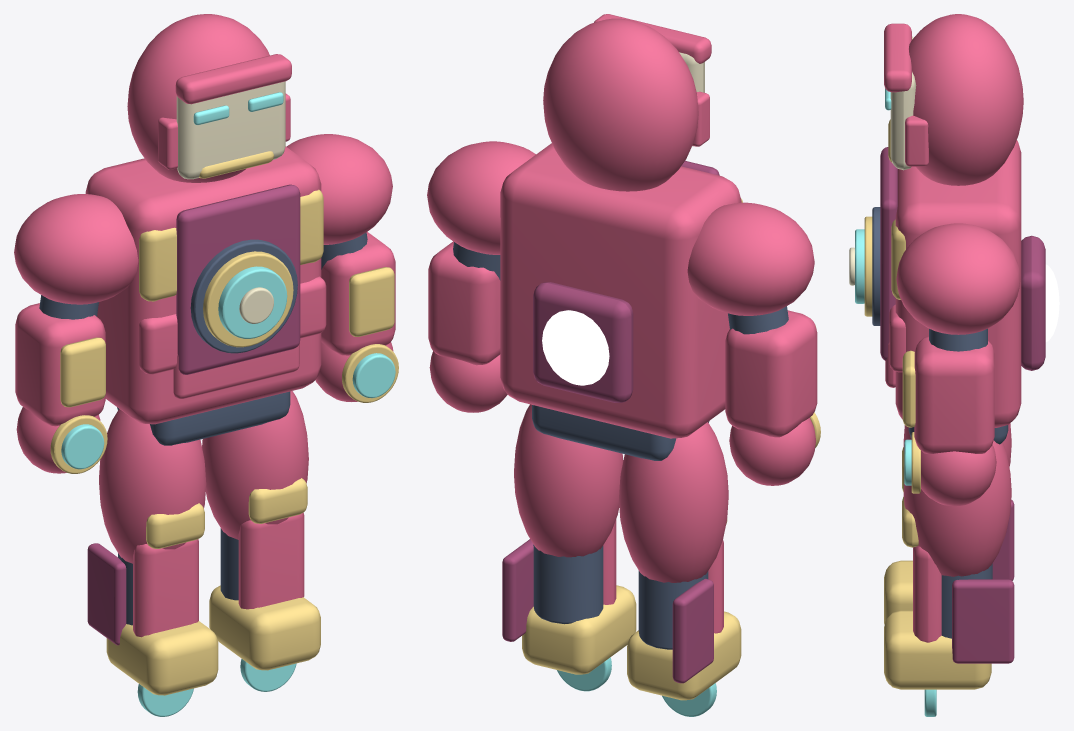
File: ArcSquad-Suit-Mk1.fbx
3 views of the same model, side by side, from view 1: azimuth 30°, elevation 25°; view 2: azimuth 150°, elevation 25°; view 3: azimuth 270°, elevation 25° (orthographic). The views are drawn at different scales.
Visible parts, largest first — view 1: ARMOR CHEST / main plating, ARMOR sternum faceplate, ARMOR SHOULDER joint.001, ARMOR thigh.001, ARMOR HELMET shell, ARMOR thigh, ARMOR SHOULDER joint, FACEPLATE champagne, ARMOR forearm gauntlet.001, ARMOR armored boot, ARMOR armored boot.001, ARMOR shinplate.001 (+31 smaller); view 2: ARMOR CHEST / main plating, ARMOR HELMET shell, ARMOR thigh.001, ARMOR SHOULDER joint.001, ARMOR thigh, ARMOR forearm gauntlet.001, ARMOR SHOULDER joint, ARMOR forearm gauntlet, ARMOR BACK THRUSTER, ARMOR armored boot, INNER calf.001, ARMOR armored boot.001 (+15 smaller); view 3: ARMOR HELMET shell, ARMOR CHEST / main plating, ARMOR SHOULDER joint, ARMOR forearm gauntlet, ARMOR thigh, ARMOR side fin, ARMOR armored boot, ARMOR wrist, ARMOR BACK THRUSTER, ARMOR sternum faceplate, ARMOR shinplate, ARMOR brow (+17 smaller).
Boxes of the visible parts, bbox=[...] form: ARMOR CHEST / main plating: bbox=[85, 146, 321, 424]; ARMOR sternum faceplate: bbox=[176, 184, 300, 374]; ARMOR SHOULDER joint.001: bbox=[14, 194, 138, 304]; ARMOR thigh.001: bbox=[99, 409, 206, 563]; ARMOR HELMET shell: bbox=[127, 14, 269, 182]; ARMOR thigh: bbox=[202, 391, 308, 539]; ARMOR SHOULDER joint: bbox=[286, 134, 392, 244]; FACEPLATE champagne: bbox=[176, 81, 285, 179]; ARMOR forearm gauntlet.001: bbox=[15, 303, 105, 426]; ARMOR armored boot: bbox=[209, 585, 320, 670]; ARMOR armored boot.001: bbox=[106, 621, 218, 695]; ARMOR shinplate.001: bbox=[133, 539, 198, 637]; ARMOR CHEST / main plating: bbox=[500, 143, 741, 438]; ARMOR HELMET shell: bbox=[543, 18, 698, 191]; ARMOR thigh.001: bbox=[619, 422, 728, 582]; ARMOR SHOULDER joint.001: bbox=[687, 202, 814, 315]; ARMOR thigh: bbox=[514, 404, 623, 557]; ARMOR forearm gauntlet.001: bbox=[725, 310, 817, 437]; ARMOR SHOULDER joint: bbox=[427, 141, 535, 254]; ARMOR forearm gauntlet: bbox=[428, 241, 500, 365]; ARMOR BACK THRUSTER: bbox=[533, 282, 633, 402]; ARMOR armored boot: bbox=[522, 585, 636, 674]; INNER calf.001: bbox=[533, 544, 603, 624]; ARMOR armored boot.001: bbox=[627, 611, 741, 700]; ARMOR HELMET shell: bbox=[909, 14, 1023, 185]; ARMOR CHEST / main plating: bbox=[895, 140, 1021, 427]; ARMOR SHOULDER joint: bbox=[896, 223, 1020, 334]; ARMOR forearm gauntlet: bbox=[914, 336, 994, 453]; ARMOR thigh: bbox=[903, 440, 1011, 576]; ARMOR side fin: bbox=[952, 579, 1014, 663]; ARMOR armored boot: bbox=[884, 610, 991, 689]; ARMOR wrist: bbox=[921, 444, 996, 506]; ARMOR BACK THRUSTER: bbox=[1021, 235, 1045, 370]; ARMOR sternum faceplate: bbox=[880, 147, 897, 360]; ARMOR shinplate: bbox=[913, 546, 941, 642]; ARMOR brow: bbox=[884, 23, 911, 92].
Bounding box in the file's own units: 528 × 927 × 264.
